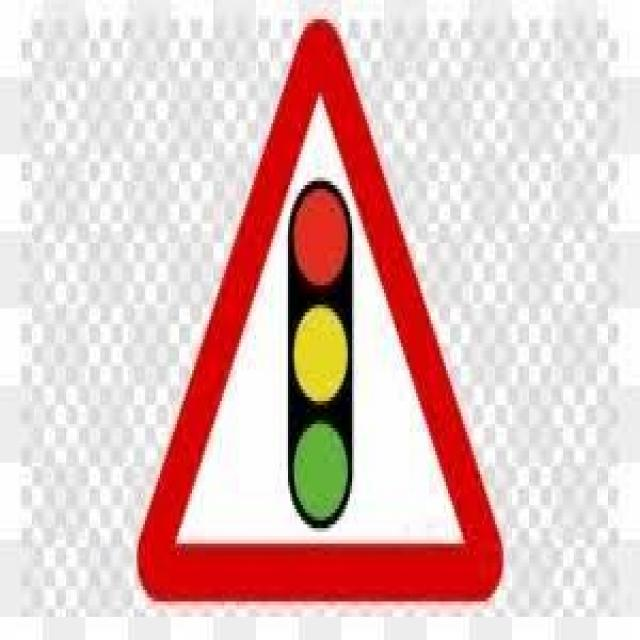light_traffic: (136, 13, 507, 610)
